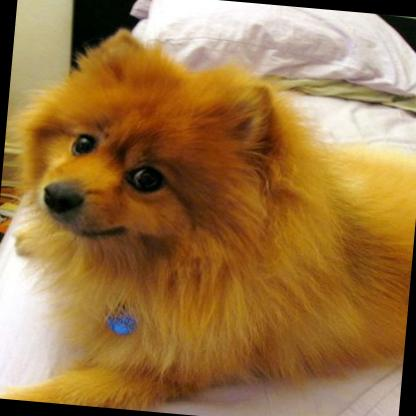Pomeranian: (0, 19, 416, 416)
